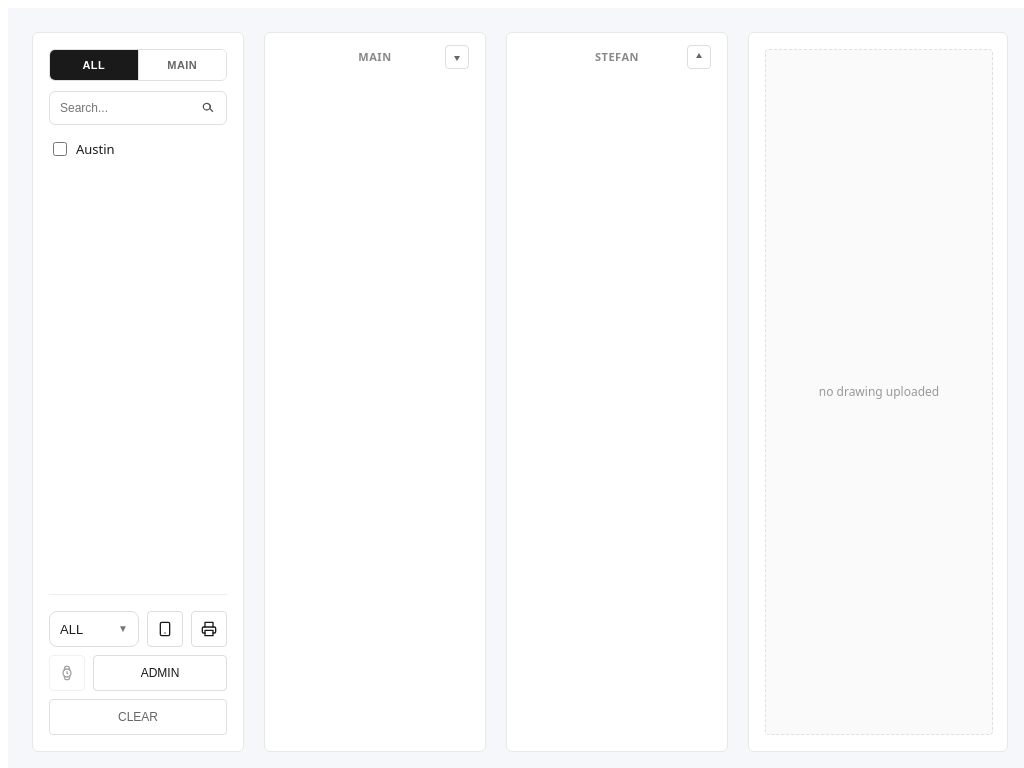
Test: App auth/session integration (Phase 2C) › shows an error and stays locked on invalid credentials
The width and height of the screenshot is (1024, 768).
Click the button "ADMIN" at (160, 673), box [93,655,227,691]
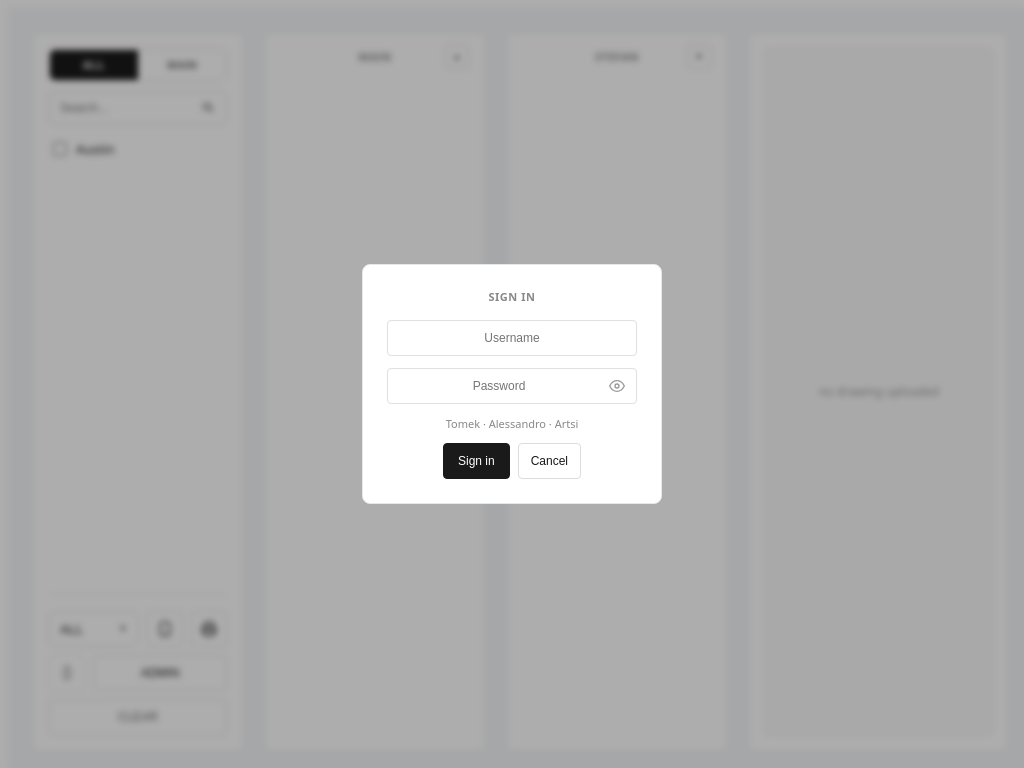
Type "Tomek" into the field with placeholder "Username" at (512, 338), box [387,320,637,356]
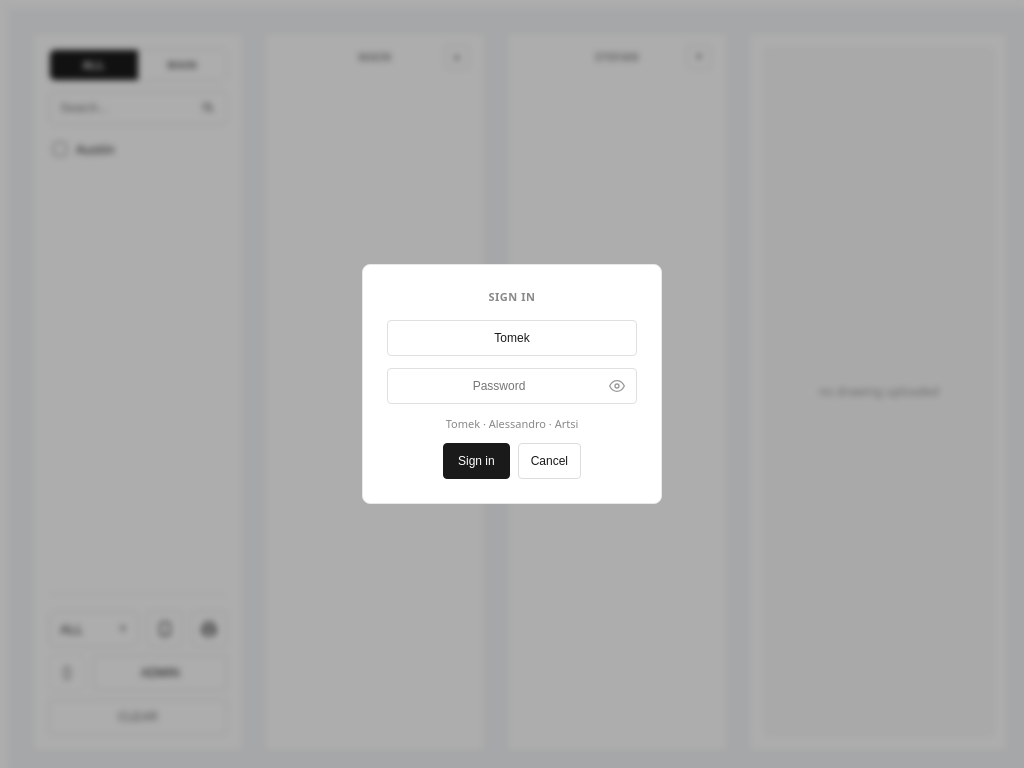
Type "wrong" into the password field with placeholder "Password" at (512, 386), box [387,368,637,404]
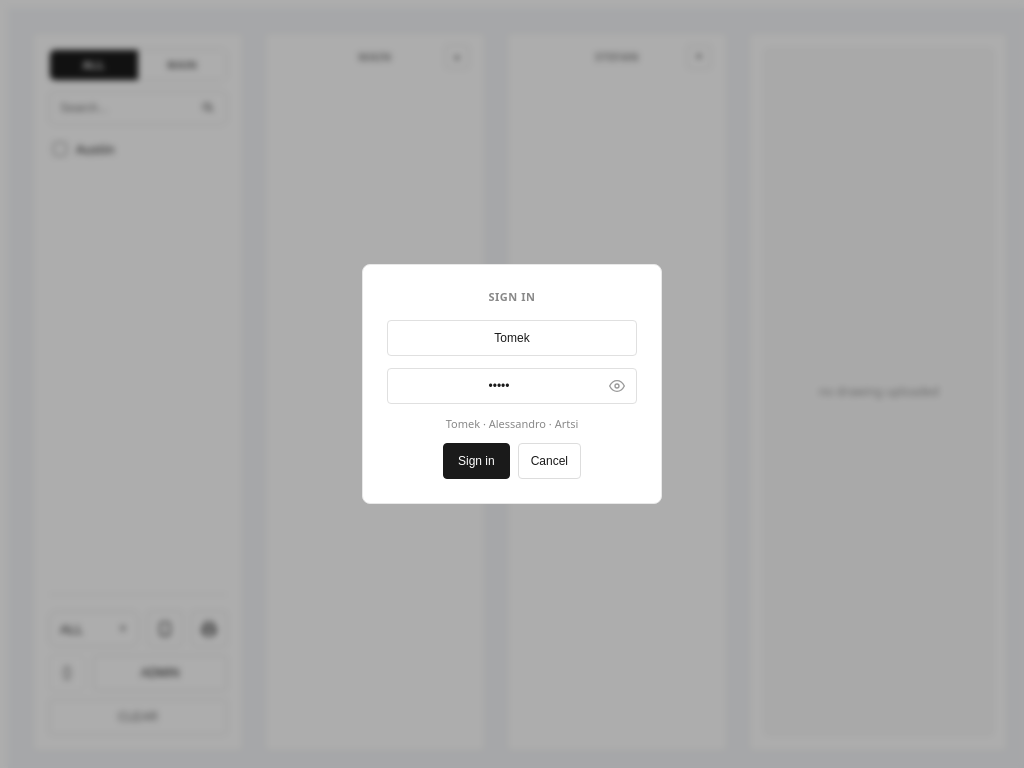
Click the button "Sign in" at (476, 461), box [443,443,510,479]
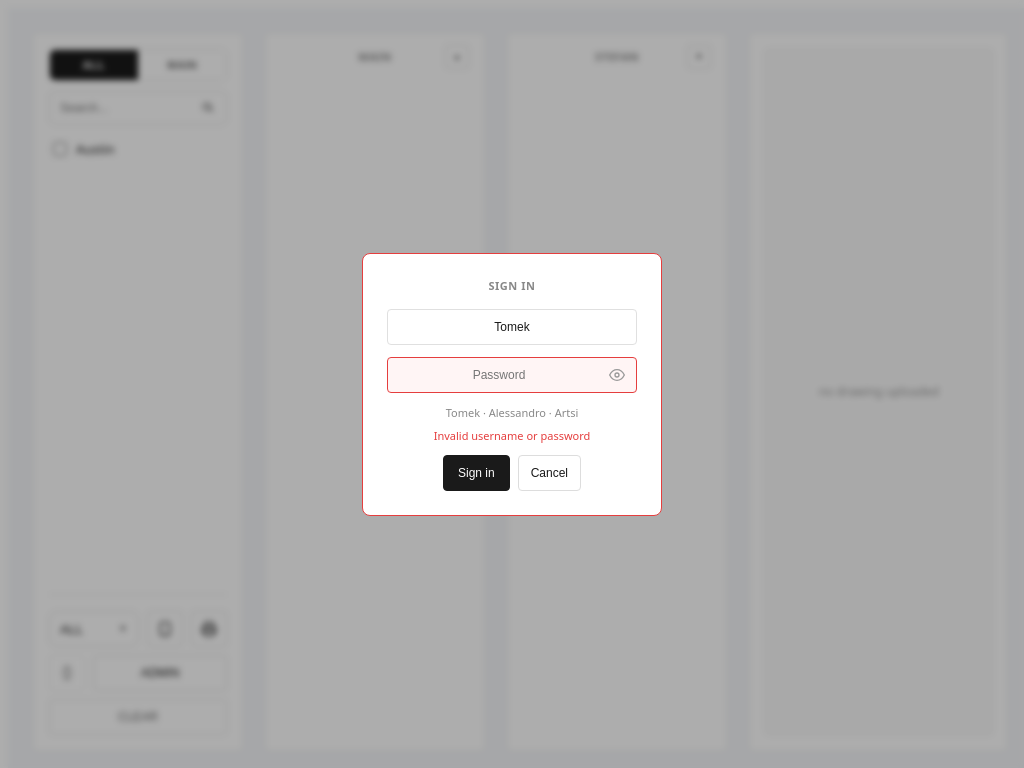
Check: the text "Invalid username or password" is shown, box [434,428,590,442]
